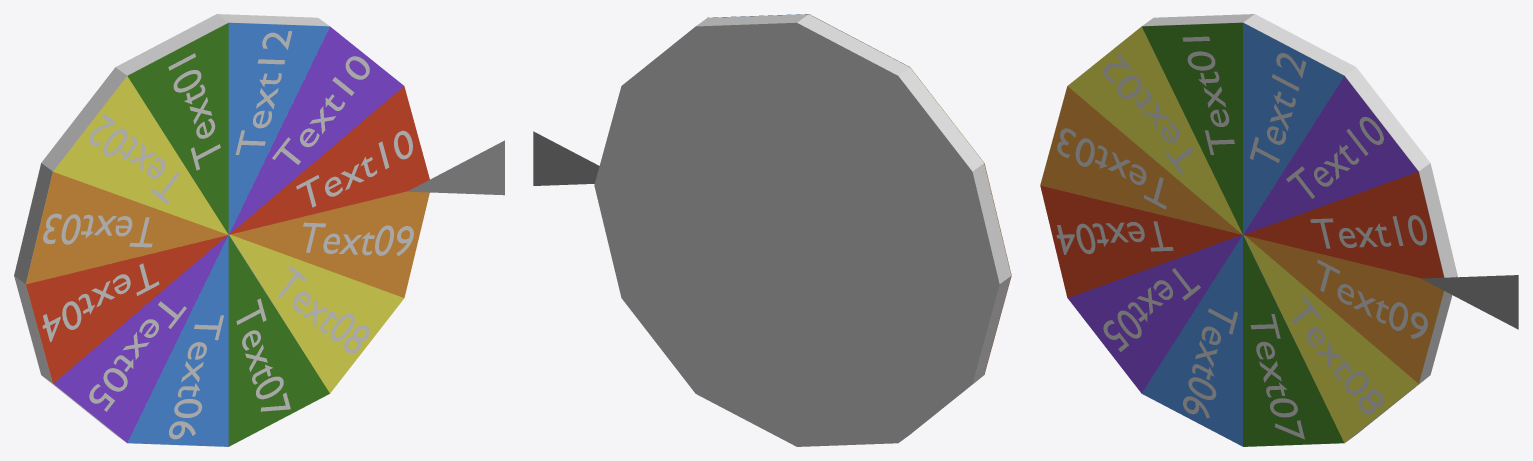
The model's file is wheel.gltf.
3 renders of one model, left to right at view 1: azimuth 30°, elevation 25°; view 2: azimuth 150°, elevation 25°; view 3: azimuth 330°, elevation 25°, orthographic.
Visible parts, largest first — view 1: Plane12, Plane07, Plane11, Plane01, Plane03, Plane10, Plane02, Plane06, Plane05, Plane04, Plane08, Plane09 (+14 smaller); view 2: Wheel, Pointer; view 3: Plane12, Plane11, Plane03, Plane01, Plane10, Plane07, Plane02, Plane04, Plane05, Plane08, Plane06, Plane09 (+14 smaller).
Boxes of the visible parts, box(x1,y1,x2,y2) form: Plane12: box(228, 22, 329, 234); Plane07: box(228, 235, 329, 446); Plane11: box(229, 26, 403, 234); Plane01: box(127, 23, 228, 234); Plane03: box(26, 172, 227, 284); Plane10: box(229, 86, 429, 234); Plane02: box(53, 76, 228, 234); Plane06: box(127, 235, 228, 446); Plane05: box(53, 235, 228, 442); Plane04: box(26, 235, 227, 383); Plane08: box(229, 234, 404, 393); Plane09: box(229, 191, 429, 297); Wheel: box(594, 14, 1011, 446); Pointer: box(533, 131, 599, 185); Plane12: box(1243, 23, 1343, 234); Plane11: box(1243, 76, 1418, 234); Plane03: box(1040, 86, 1241, 234); Plane01: box(1142, 22, 1242, 233); Plane10: box(1244, 172, 1443, 278); Plane07: box(1243, 235, 1343, 446); Plane02: box(1068, 26, 1242, 234); Plane04: box(1040, 185, 1241, 297); Plane05: box(1068, 235, 1242, 393); Plane08: box(1244, 235, 1418, 442); Plane06: box(1141, 235, 1242, 446); Plane09: box(1243, 235, 1443, 383).
Size of the model in its own units: 11.81 by 10 by 0.52.
